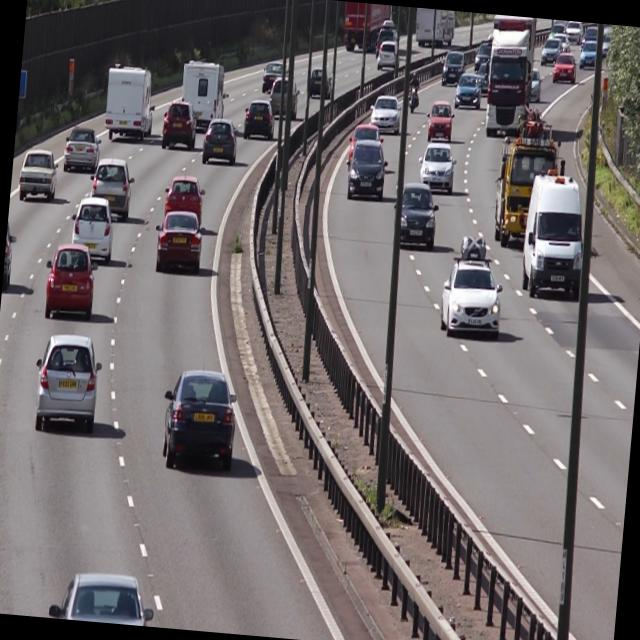Vehicle: (518, 161, 594, 306), (492, 108, 562, 248), (156, 361, 240, 475), (436, 232, 511, 344), (29, 328, 104, 434), (484, 14, 538, 138), (50, 568, 156, 626), (101, 60, 160, 142), (43, 243, 98, 320), (176, 57, 230, 132), (394, 174, 444, 248), (65, 196, 118, 262), (152, 211, 206, 275), (89, 154, 136, 218), (347, 137, 391, 200), (414, 142, 462, 196), (17, 146, 62, 203), (161, 172, 207, 223), (160, 99, 198, 154), (200, 116, 239, 169), (62, 125, 102, 173), (370, 90, 404, 138), (268, 74, 300, 123), (243, 98, 277, 142), (424, 98, 456, 140), (454, 72, 484, 112), (551, 52, 581, 90)
